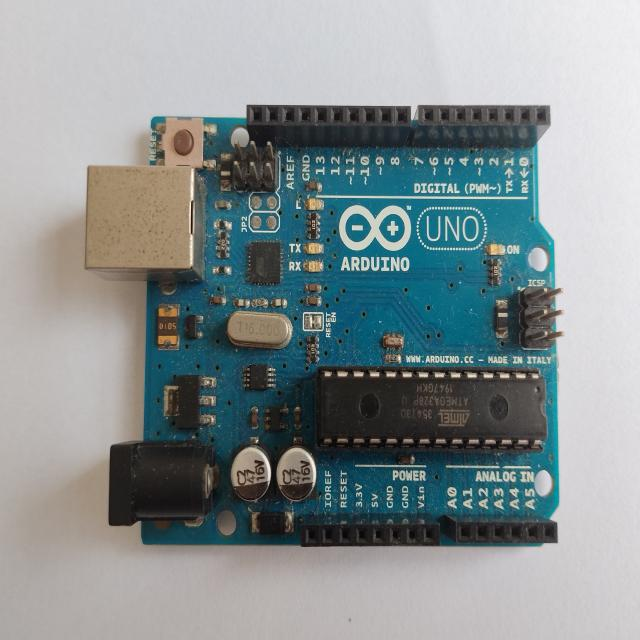arduino: (80, 79, 570, 563)
